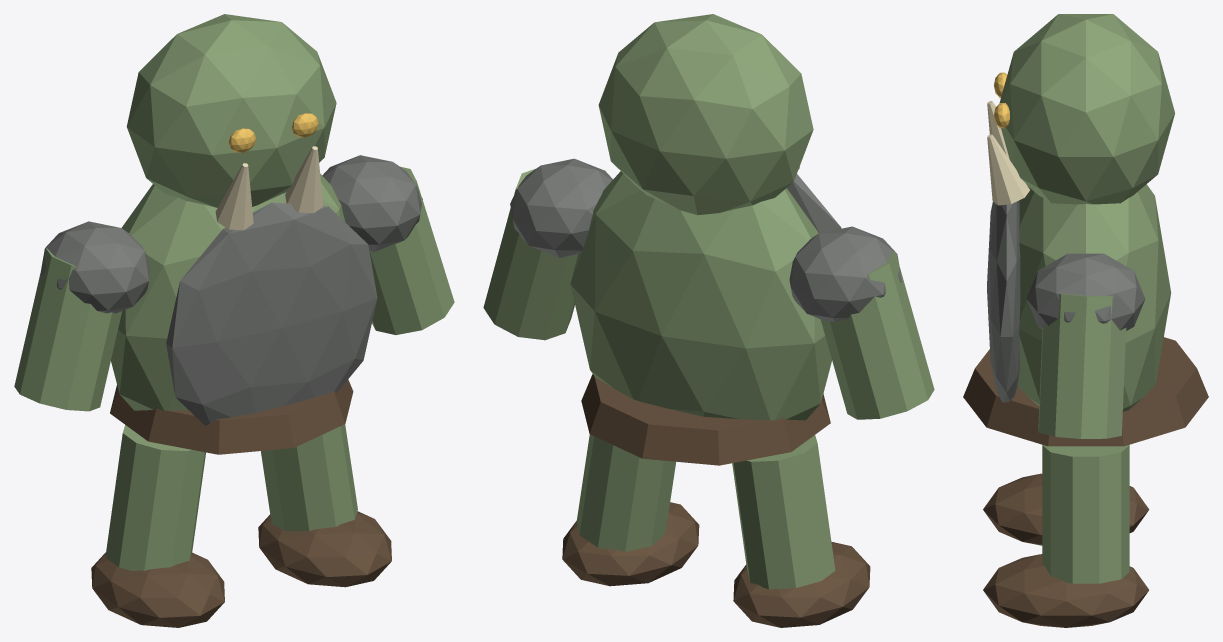
Rendered from orc.glb.
The picture shows the model from 3 angles, left to right: view 1: azimuth 30°, elevation 25°; view 2: azimuth 150°, elevation 25°; view 3: azimuth 270°, elevation 25°; orthographic projection. The views are drawn at different scales.
Parts seen in each view (by area): view 1: Chest_Armor, Head, Body, Leg_L, Arm_L, Belt, Leg_R, Boot_L, Boot_R, Arm_R, Shoulder_L, Shoulder_R (+2 smaller); view 2: Body, Head, Leg_L, Belt, Arm_L, Leg_R, Arm_R, Shoulder_L, Shoulder_R, Boot_L, Boot_R, Chest_Armor; view 3: Head, Body, Leg_R, Arm_R, Belt, Boot_R, Chest_Armor, Shoulder_R, Boot_L, Tusk_R, Tusk_L.
Boxes of the visible parts, bbox=[...] form: Chest_Armor: bbox=[166, 202, 377, 425]; Head: bbox=[126, 14, 336, 207]; Body: bbox=[111, 173, 345, 410]; Leg_L: bbox=[105, 425, 205, 570]; Arm_L: bbox=[14, 248, 122, 411]; Belt: bbox=[110, 379, 353, 454]; Leg_R: bbox=[261, 424, 357, 531]; Boot_L: bbox=[91, 552, 224, 627]; Boot_R: bbox=[258, 511, 391, 587]; Arm_R: bbox=[369, 166, 454, 334]; Shoulder_L: bbox=[40, 221, 150, 313]; Shoulder_R: bbox=[322, 155, 422, 251]; Body: bbox=[570, 171, 831, 420]; Head: bbox=[598, 14, 813, 215]; Leg_L: bbox=[732, 435, 835, 589]; Belt: bbox=[581, 374, 830, 465]; Arm_L: bbox=[820, 251, 934, 419]; Leg_R: bbox=[576, 434, 675, 551]; Arm_R: bbox=[483, 168, 577, 340]; Shoulder_L: bbox=[789, 226, 901, 322]; Shoulder_R: bbox=[510, 158, 612, 257]; Boot_L: bbox=[733, 541, 870, 627]; Boot_R: bbox=[562, 502, 699, 586]; Chest_Armor: bbox=[787, 174, 841, 233]; Head: bbox=[999, 14, 1174, 204]; Body: bbox=[1017, 184, 1171, 411]; Leg_R: bbox=[1042, 445, 1129, 583]; Arm_R: bbox=[1038, 293, 1126, 438]; Belt: bbox=[963, 337, 1208, 446]; Boot_R: bbox=[983, 554, 1148, 627]; Chest_Armor: bbox=[987, 200, 1020, 402]; Shoulder_R: bbox=[1026, 253, 1145, 331]; Boot_L: bbox=[983, 473, 1149, 545]; Tusk_R: bbox=[987, 134, 1029, 205]; Tusk_L: bbox=[987, 101, 1009, 159].
Size of the model in its own units: 2.46 by 3.11 by 1.24.
